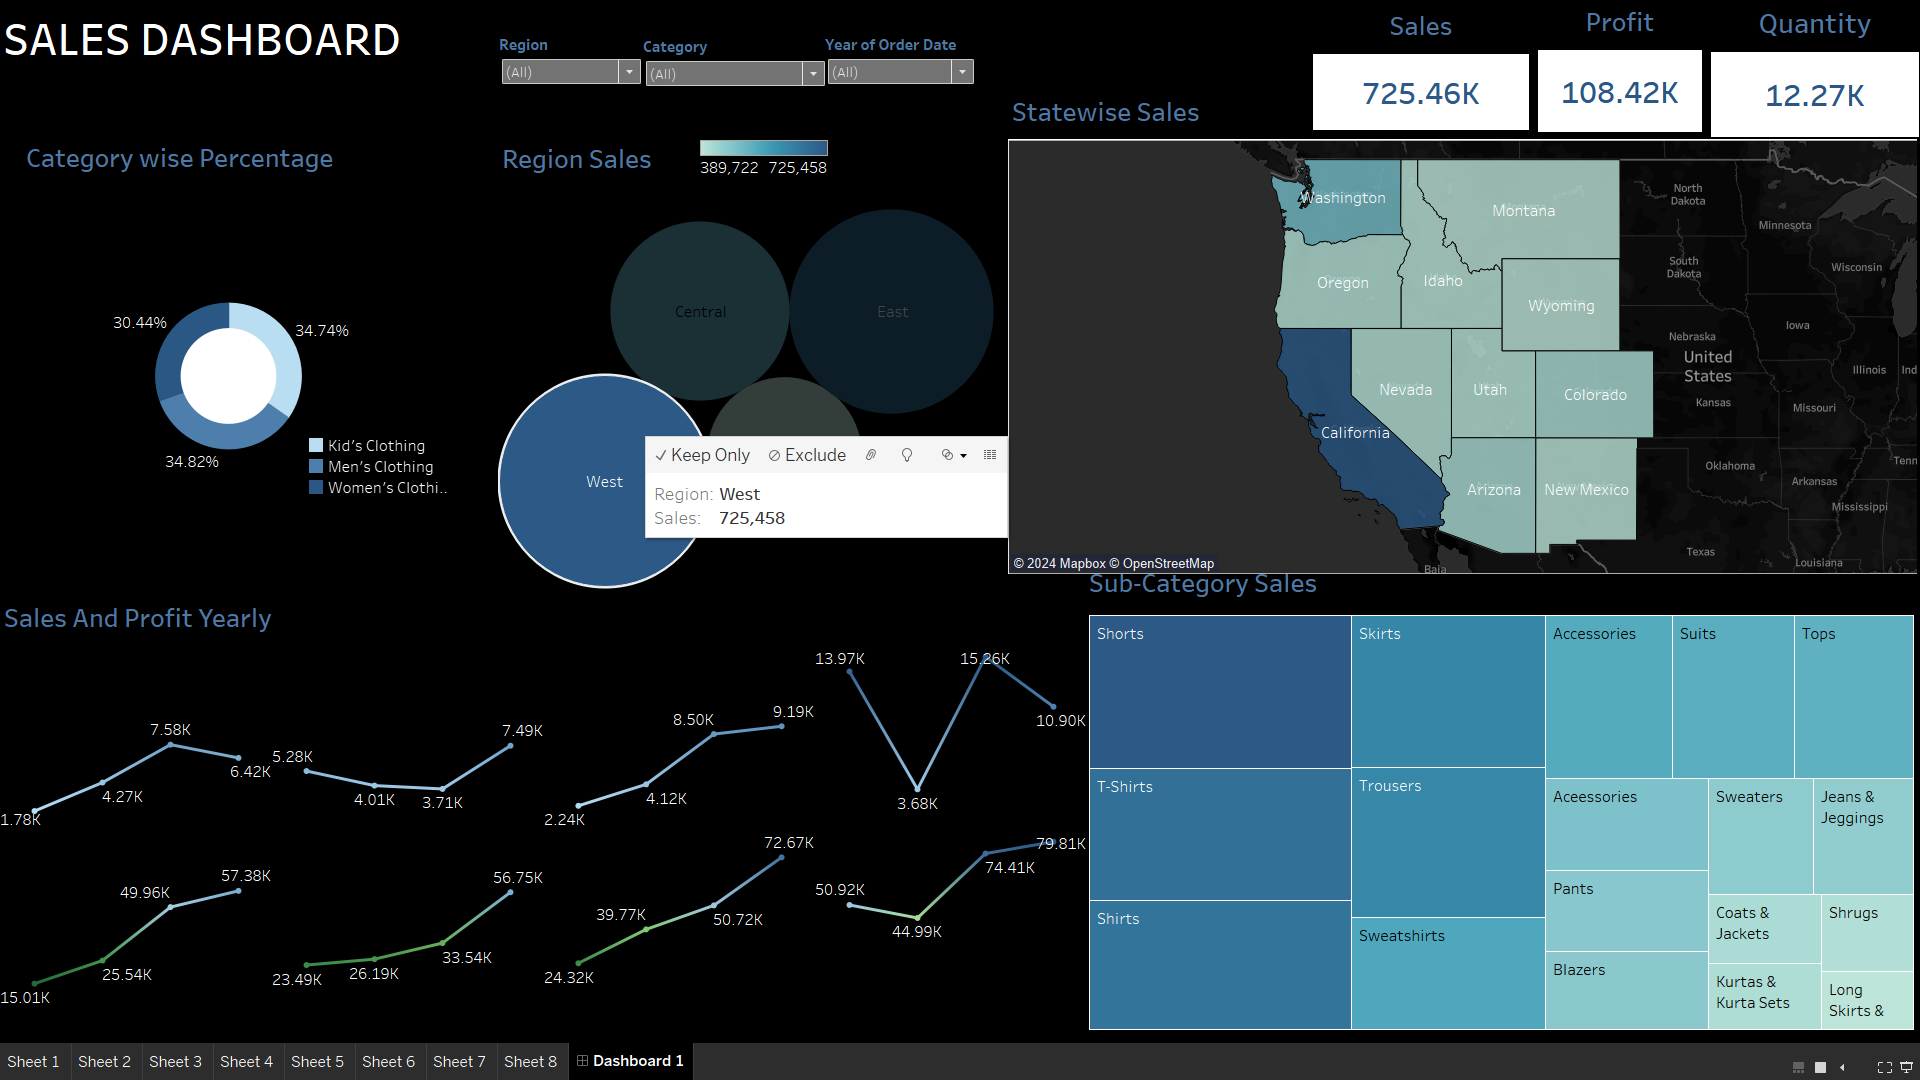

What the dashboard file says about the page in this screenshot:
{"tool":"tableau","page":{"name":"Dashboard 1","canvas":[1000,1000],"units":"permille","ordinal":0},"visuals":[{"type":"blank","box":[0,0,1000,1000]},{"type":"worksheet","title":"Sheet 3","mark":"Automatic","box":[801.2,0,85.3,126.1]},{"type":"worksheet","title":"Sheet 4","mark":"Automatic","box":[891.1,0,108.2,131.6]},{"type":"worksheet","title":"Sheet 2","mark":"Automatic","box":[683.9,3.7,112.7,120.7]},{"type":"text","box":[0,5.9,245,59.9]},{"type":"filter","title":"Sheet 3","param":"[federated.02s150b0oq98tg15a1gx214efzrz].[none:Region:nk]","box":[260.1,32.9,75.4,54.1]},{"type":"filter","title":"Sheet 8","param":"[federated.02s150b0oq98tg15a1gx214efzrz].[yr:Order Date:ok]","box":[429.6,32.9,78.9,50.5]},{"type":"filter","title":"Sheet 2","param":"[federated.02s150b0oq98tg15a1gx214efzrz].[none:Category:nk]","box":[334.9,34.1,96.6,51.7]},{"type":"worksheet","title":"Sheet 6","mark":"Automatic","box":[524.8,85.9,473.7,464.4]},{"type":"legend","title":"Sheet 1","param":"[federated.02s150b0oq98tg15a1gx214efzrz].[sum:Sales:qk]","box":[362.7,109.3,70.6,70.5]},{"type":"worksheet","title":"Sheet 7","mark":"Pie","rows":["Calculation_604326818627776520","Calculation_604326818627797002"],"box":[11.5,130.4,214.8,412.5]},{"type":"worksheet","title":"Sheet 1","mark":"Circle","box":[259.5,131.6,258.3,451.2]},{"type":"legend","title":"Sheet 7","param":"[federated.02s150b0oq98tg15a1gx214efzrz].[none:Category:nk]","box":[159.3,396,77.9,99.9]},{"type":"worksheet","title":"Sheet 5","mark":"Automatic","box":[564.9,538.2,433.3,453.6]},{"type":"worksheet","title":"Sheet 8","mark":"Automatic","rows":["Profit","Sales"],"cols":["Order Date","Order Date"],"box":[0,571.1,566.1,403.1]}]}

Visuals, with their boxes on the dashboard's canvas, which has no fixed pixel size, in thousandths of its width and height (x1, y1, x2, y2). These are canvas units, not pixel positions in the 1920x1080 screenshot, which may show the page scaled, cropped or inside an application window:
blank: select_region(0, 0, 1000, 1000)
"Sheet 3" worksheet: select_region(801, 0, 886, 126)
"Sheet 4" worksheet: select_region(891, 0, 999, 132)
"Sheet 2" worksheet: select_region(684, 4, 797, 124)
text: select_region(0, 6, 245, 66)
"Sheet 3" filter: select_region(260, 33, 336, 87)
"Sheet 8" filter: select_region(430, 33, 508, 83)
"Sheet 2" filter: select_region(335, 34, 432, 86)
"Sheet 6" worksheet: select_region(525, 86, 998, 550)
"Sheet 1" legend: select_region(363, 109, 433, 180)
"Sheet 7" worksheet (Pie marks): select_region(12, 130, 226, 543)
"Sheet 1" worksheet (Circle marks): select_region(260, 132, 518, 583)
"Sheet 7" legend: select_region(159, 396, 237, 496)
"Sheet 5" worksheet: select_region(565, 538, 998, 992)
"Sheet 8" worksheet: select_region(0, 571, 566, 974)
